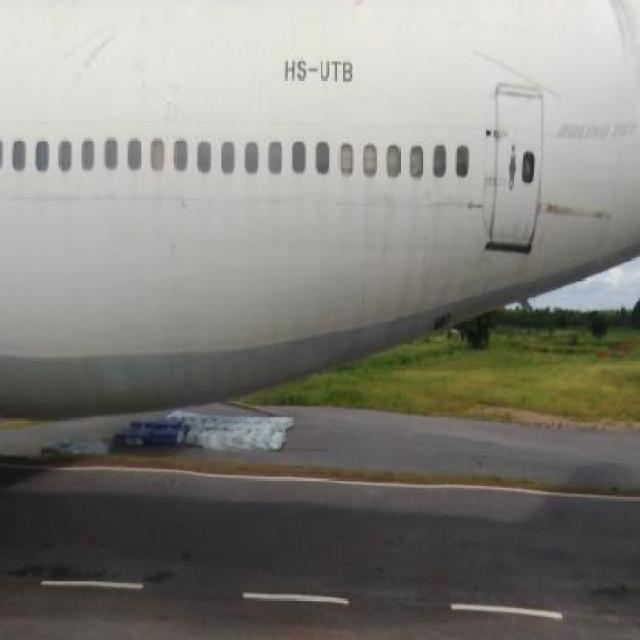Scartch: (60, 24, 143, 87), (541, 194, 613, 238), (434, 196, 489, 224)
